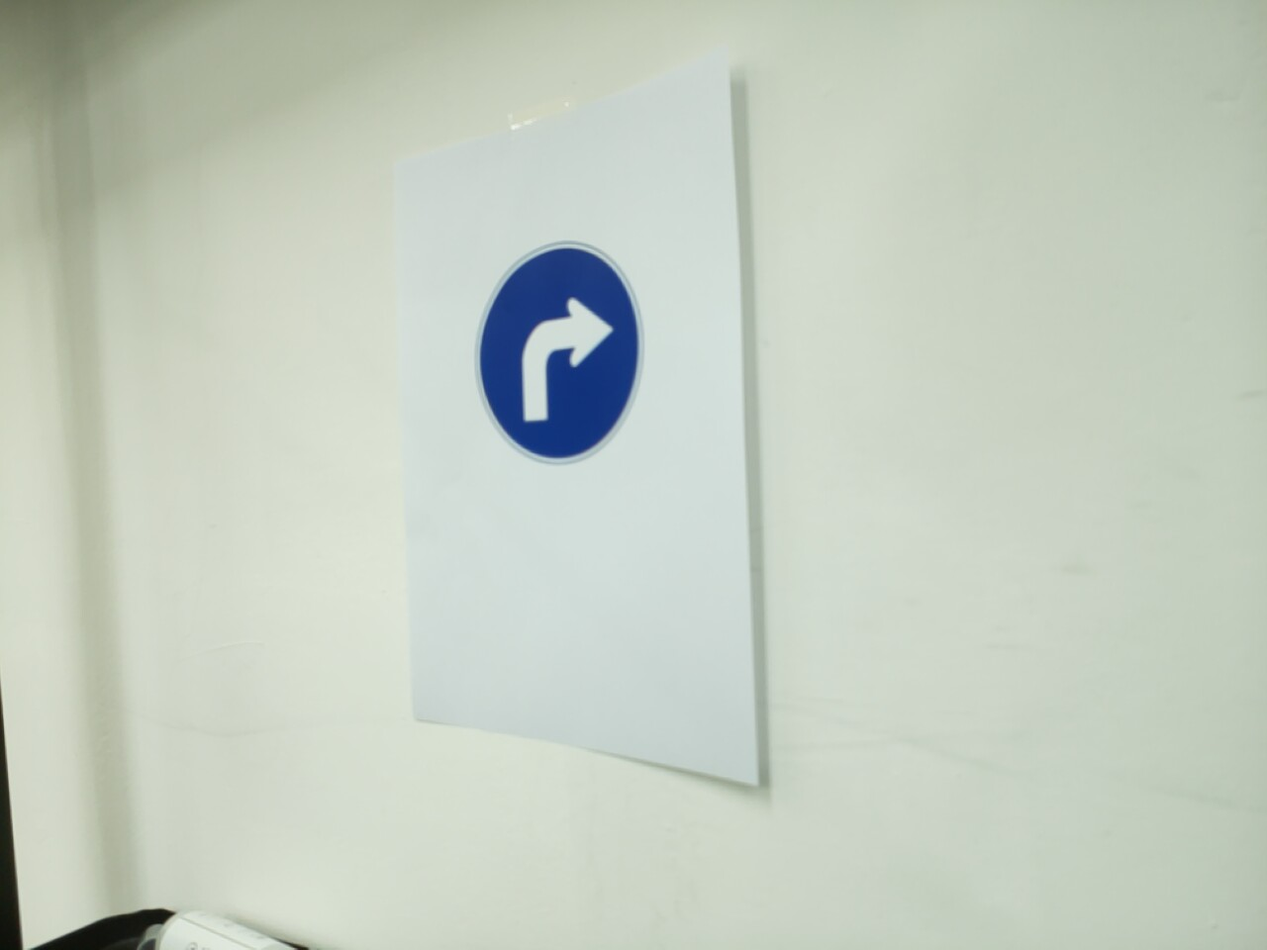right_turn: (473, 239, 645, 466)
